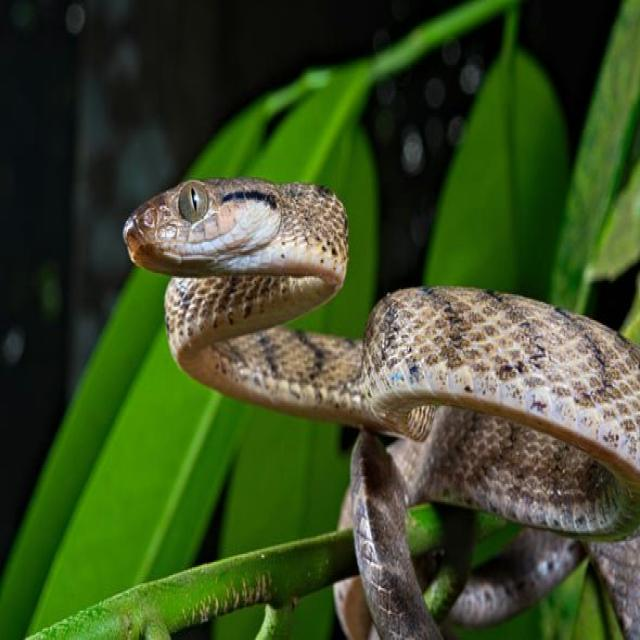snake: (124, 179, 639, 638)
